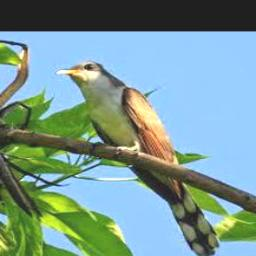Cuckoo: (55, 61, 221, 256)
